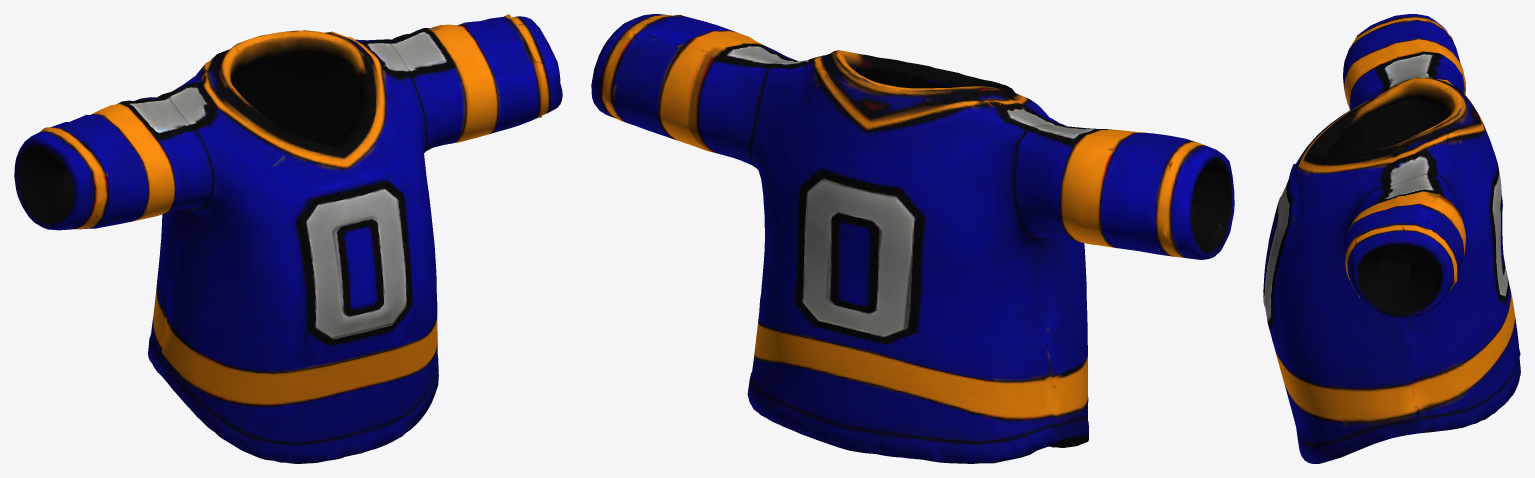
Rendered from Hockey-Blue-Orange.glb.
3 renders of one model, left to right at view 1: azimuth 30°, elevation 25°; view 2: azimuth 150°, elevation 25°; view 3: azimuth 270°, elevation 25°, orthographic. The views are drawn at different scales.
Visible parts, largest first — view 1: Hockey-Blue-Orange; view 2: Hockey-Blue-Orange; view 3: Hockey-Blue-Orange.
Part boxes in pixels (x1,y1,x2,y2): Hockey-Blue-Orange: (14,14,562,463); Hockey-Blue-Orange: (591,14,1234,463); Hockey-Blue-Orange: (1263,14,1520,463).
Bounding box in the file's own units: 0.7278 × 0.4861 × 0.3372.
1 material, 1 textured.
